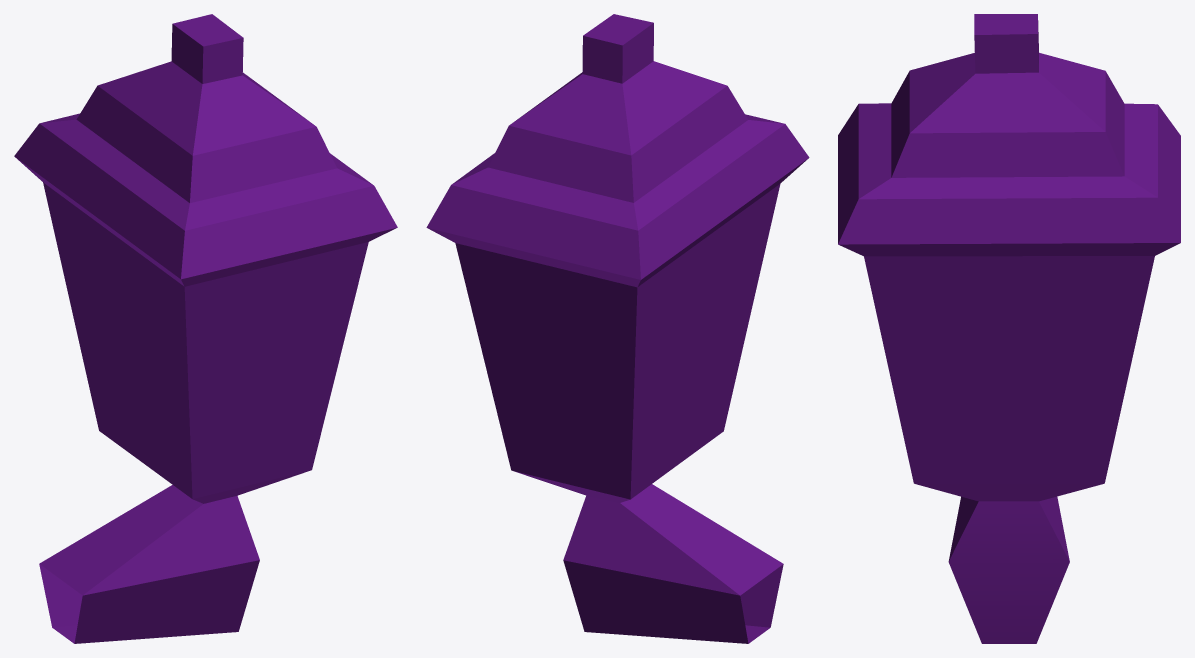
File: wall_light2.FBX
3 views of the same model, side by side, from view 1: azimuth 30°, elevation 25°; view 2: azimuth 150°, elevation 25°; view 3: azimuth 270°, elevation 25° (orthographic). The views are drawn at different scales.
Visible parts, largest first — view 1: Object003; view 2: Object003; view 3: Object003.
Boxes of the visible parts, x1,y1,x2,y2 form: Object003: (14,14,397,643); Object003: (426,14,809,643); Object003: (838,14,1180,643).
Size of the model in its own units: 31.52 by 71.09 by 36.2.
